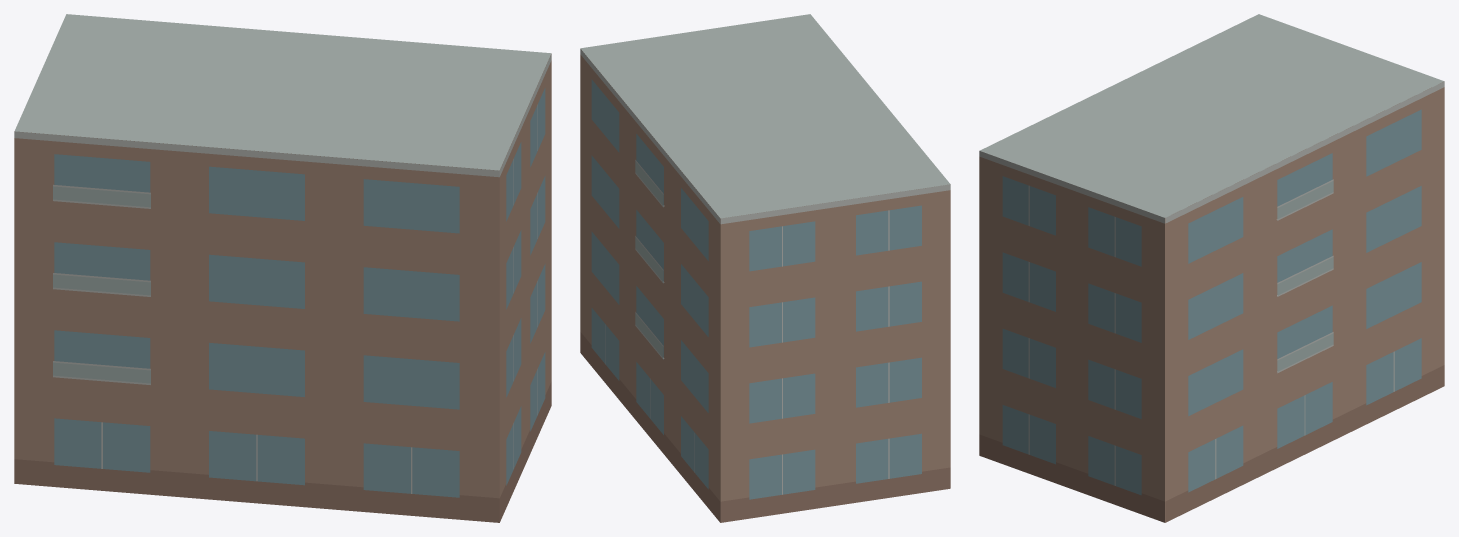
The model's file is survey-upis-32951043.glb.
3 renders of one model, left to right at view 1: azimuth 30°, elevation 25°; view 2: azimuth 150°, elevation 25°; view 3: azimuth 270°, elevation 25°, orthographic. The views are drawn at different scales.
Parts seen in each view (by area): view 1: survey-upis-32951043.tmp; view 2: survey-upis-32951043.tmp; view 3: survey-upis-32951043.tmp.
Boxes of the visible parts, x1,y1,x2,y2 form: survey-upis-32951043.tmp: (14, 14, 551, 522); survey-upis-32951043.tmp: (580, 14, 950, 522); survey-upis-32951043.tmp: (979, 14, 1444, 522).
Size of the model in its own units: 18.37 by 12.8 by 17.7.
